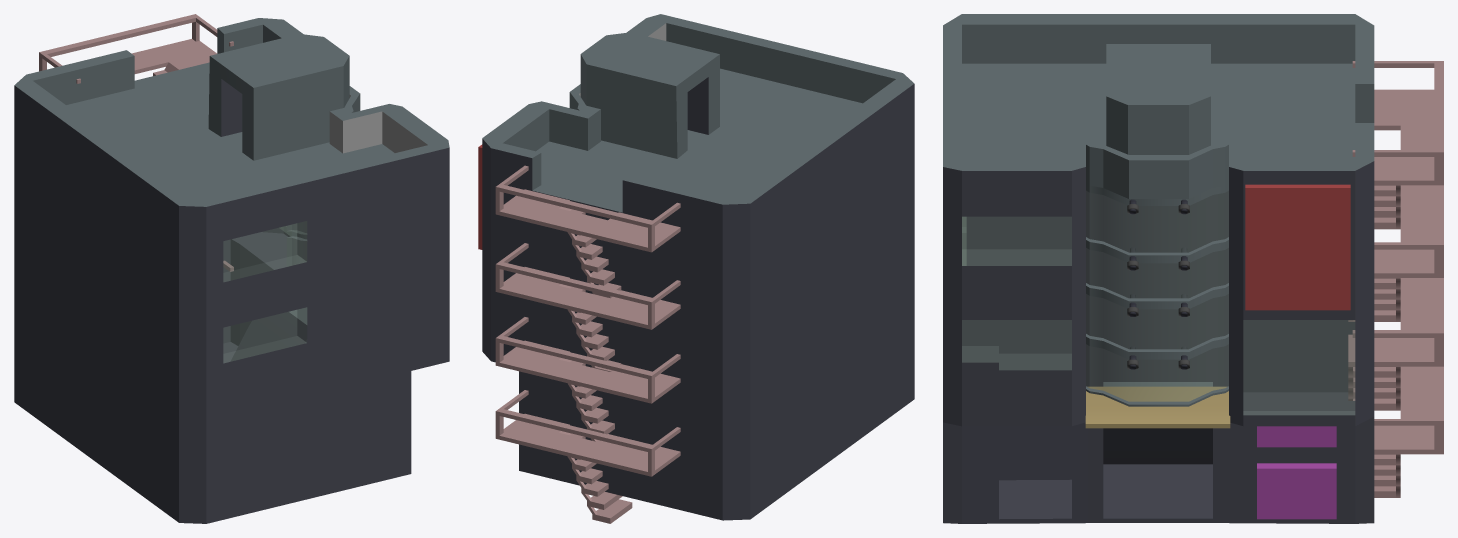
The model's file is 2_Main.fbx.
3 views of the same model, side by side, from view 1: azimuth 30°, elevation 25°; view 2: azimuth 150°, elevation 25°; view 3: azimuth 270°, elevation 25° (orthographic). The views are drawn at different scales.
Visible parts, largest first — view 1: polySurface94, polySurface89, pasted__pasted___pCube58; view 2: polySurface94, polySurface89, pasted__pasted___pCube61, pasted__pasted___pCube58, pasted__pasted___pCube62, pasted__pasted___pCube60, pasted__pasted__pCube3; view 3: polySurface94, pasted__pasted__pCube3, polySurface89, pasted__pasted___pCube58, pasted__pasted___pCube60, pasted__pasted___pCube62, pasted__pasted___pCube61, pasted__pasted___pCube34, pasted__pasted__pCube4, pasted__pasted__pCube111.
Boxes of the visible parts, box(x1,y1,x2,y2) form: polySurface94: box(14, 18, 449, 523); polySurface89: box(208, 34, 349, 160); pasted__pasted___pCube58: box(39, 14, 233, 83); polySurface94: box(482, 14, 914, 520); polySurface89: box(580, 32, 719, 158); pasted__pasted___pCube61: box(495, 390, 680, 523); pasted__pasted___pCube58: box(495, 165, 680, 298); pasted__pasted___pCube62: box(495, 243, 680, 371); pasted__pasted___pCube60: box(495, 317, 680, 444); pasted__pasted__pCube3: box(478, 144, 482, 249); polySurface94: box(943, 14, 1374, 523); pasted__pasted__pCube3: box(1245, 184, 1350, 310); polySurface89: box(1106, 44, 1210, 154); pasted__pasted___pCube58: box(1352, 61, 1443, 229); pasted__pasted___pCube60: box(1348, 242, 1443, 410); pasted__pasted___pCube62: box(1348, 185, 1443, 321); pasted__pasted___pCube61: box(1352, 330, 1443, 497); pasted__pasted___pCube34: box(1085, 386, 1230, 428); pasted__pasted__pCube4: box(1257, 463, 1336, 519); pasted__pasted__pCube111: box(1257, 426, 1336, 447).
Bounding box in the file's own units: 11.03 × 14.5 × 14.58.
